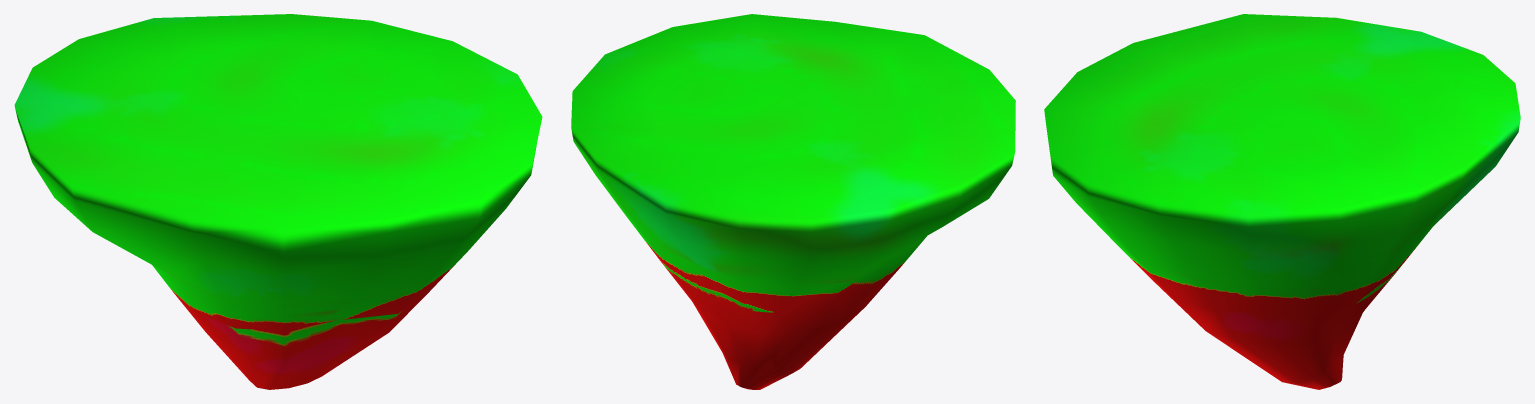
The model's file is PaintedIslandShape.dae.
3 views of the same model, side by side, from view 1: azimuth 30°, elevation 25°; view 2: azimuth 150°, elevation 25°; view 3: azimuth 270°, elevation 25° (orthographic). The views are drawn at different scales.
Parts seen in each view (by area): view 1: PaintedIsland; view 2: PaintedIsland; view 3: PaintedIsland.
Boxes of the visible parts, bbox=[...] form: PaintedIsland: bbox=[14, 14, 542, 389]; PaintedIsland: bbox=[571, 14, 1015, 389]; PaintedIsland: bbox=[1044, 14, 1520, 389].
Size of the model in its own units: 101 by 65.1 by 101.
